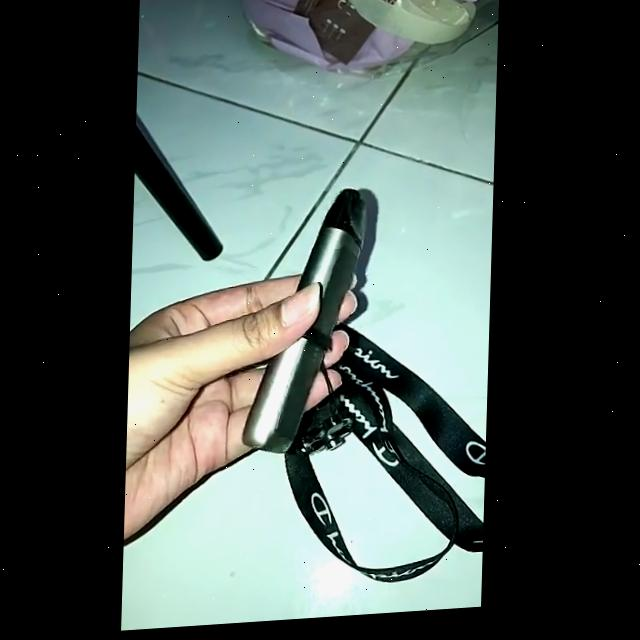vape: (245, 192, 382, 459)
